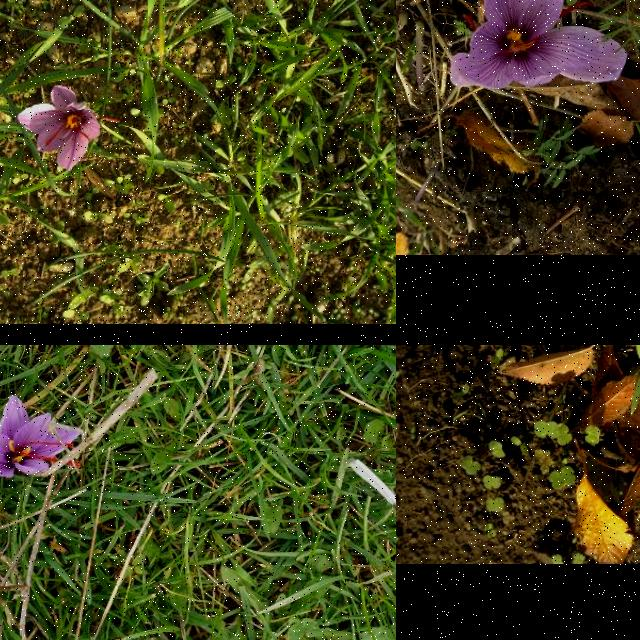flower: (450, 0, 628, 88), (0, 395, 83, 478), (18, 86, 100, 170)
